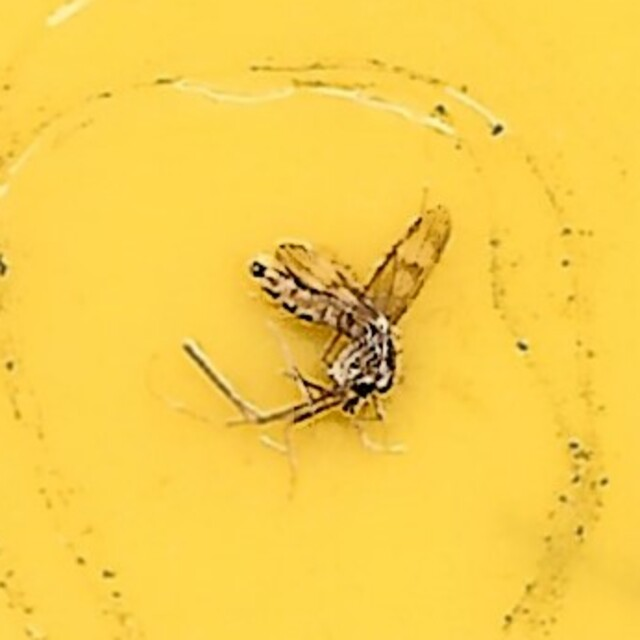Nematocera: (185, 199, 455, 441)
